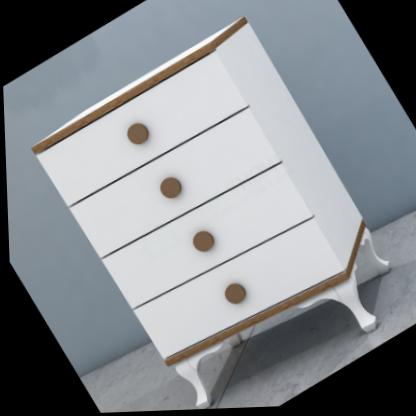Ceramic floor: (212, 212, 416, 410)
Nightstand: (23, 9, 416, 415)
